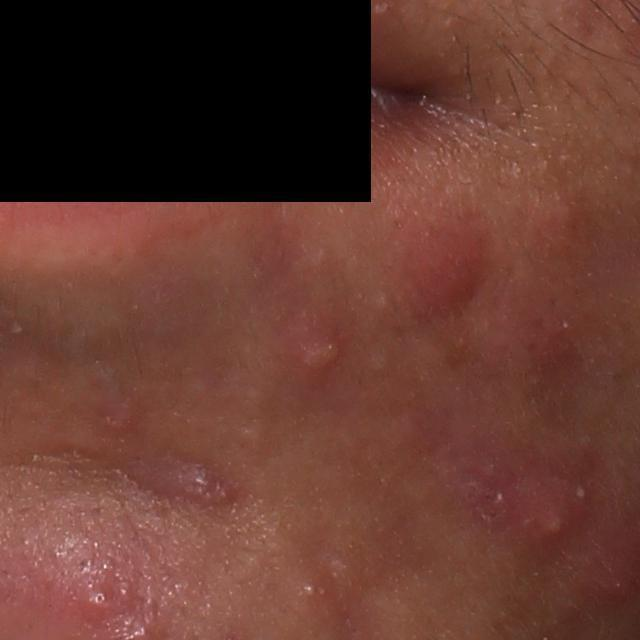papule: (391, 205, 492, 311), (533, 188, 599, 254), (158, 459, 238, 508), (74, 576, 119, 622), (98, 398, 140, 439)
pustule: (506, 476, 607, 556), (291, 323, 347, 385)
